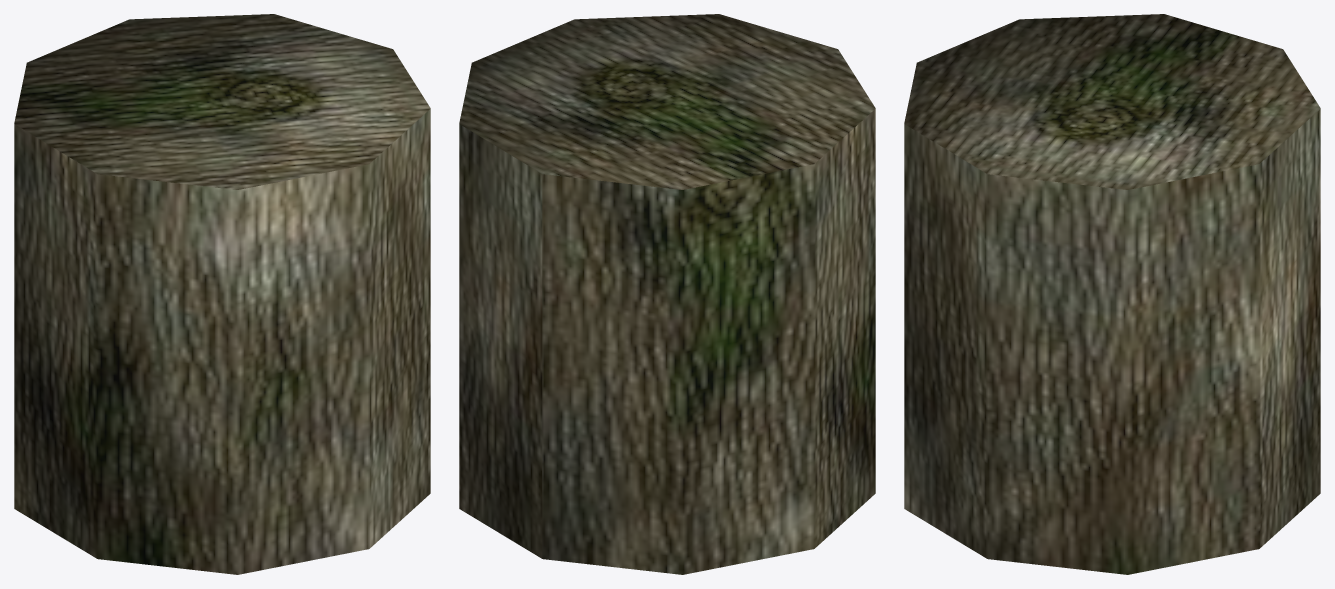
The model's file is gpwin_podium3.glb.
3 renders of one model, left to right at view 1: azimuth 30°, elevation 25°; view 2: azimuth 150°, elevation 25°; view 3: azimuth 270°, elevation 25°, orthographic.
Visible parts, largest first — view 1: oakbark.jpg__; view 2: oakbark.jpg__; view 3: oakbark.jpg__.
Boxes of the visible parts, x1=… form: oakbark.jpg__: x1=14, y1=14, x2=430, y2=574; oakbark.jpg__: x1=459, y1=14, x2=875, y2=574; oakbark.jpg__: x1=904, y1=14, x2=1320, y2=574.
Size of the model in its own units: 1.55 by 1.58 by 1.55.
1 material, 1 textured.
